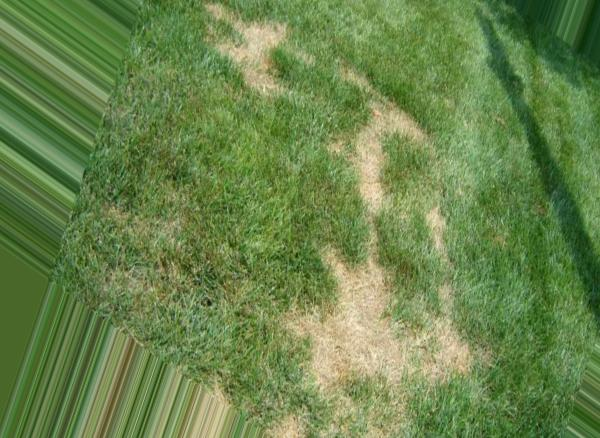patch: (337, 283, 392, 376), (307, 317, 335, 358), (362, 148, 378, 196), (442, 333, 465, 363), (248, 21, 267, 48), (364, 123, 379, 136)
